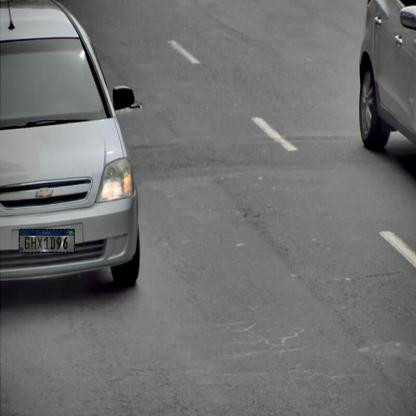PlacaM: (19, 229, 75, 253)
